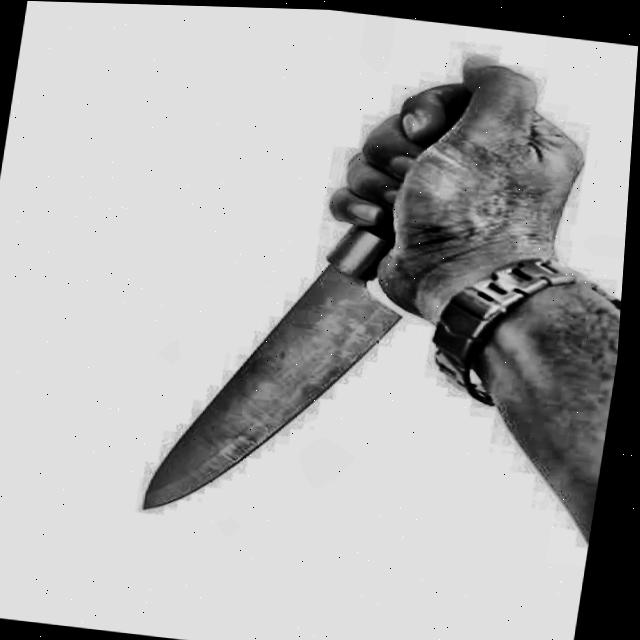pisau: (120, 26, 580, 561)
